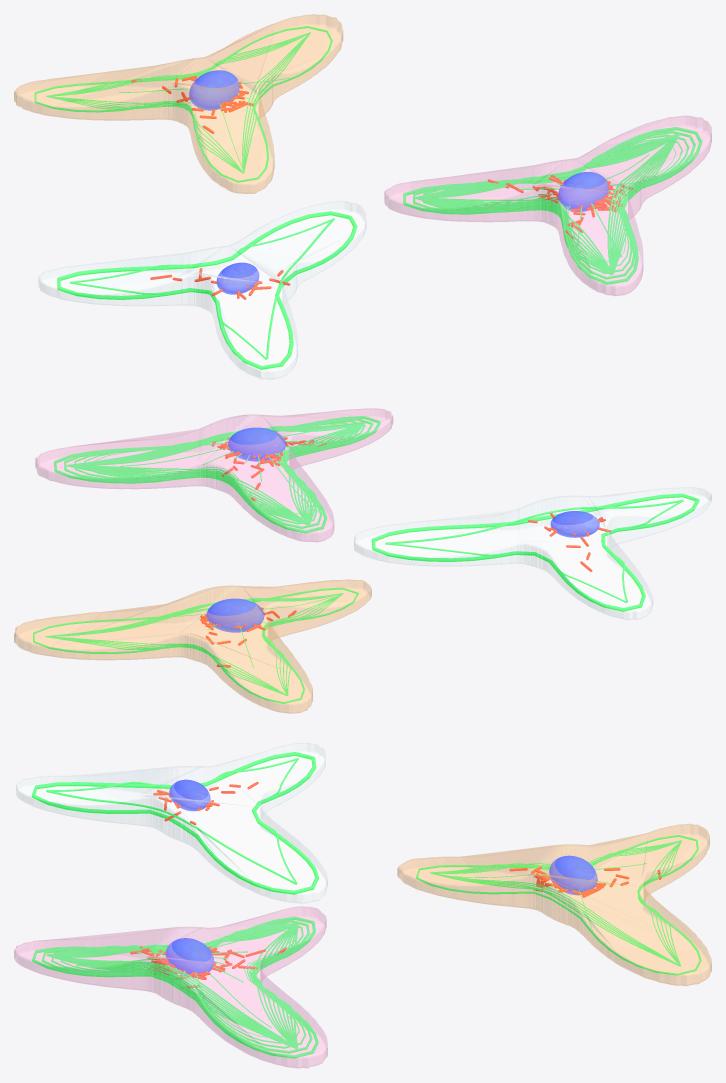
The model's file is dpsc-trio-tripolar.glb.
3 views of the same model, one above another, from view 1: azimuth 30°, elevation 25°; view 2: azimuth 150°, elevation 25°; view 3: azimuth 270°, elevation 25° (orthographic). The views are drawn at different scales.
Parts seen in each view (by area): view 1: lamella_membrane (×3), actin_bundles_merged (×3), nucleus (×3), mitochondrial_network_merged (×2); view 2: lamella_membrane (×3), actin_bundles_merged (×3), nucleus (×3), mitochondrial_network_merged (×2); view 3: lamella_membrane (×3), actin_bundles_merged (×3), nucleus (×3), mitochondrial_network_merged (×2).
Boxes of the visible parts, x1,y1,x2,y2 form: lamella_membrane (×3): (14, 14, 711, 379); actin_bundles_merged (×3): (34, 26, 702, 369); nucleus (×3): (189, 70, 608, 294); mitochondrial_network_merged (×2): (131, 76, 636, 238); lamella_membrane (×3): (14, 408, 711, 713); actin_bundles_merged (×3): (33, 416, 699, 703); nucleus (×3): (206, 427, 599, 632); mitochondrial_network_merged (×2): (200, 437, 326, 667); lamella_membrane (×3): (14, 742, 711, 1068); actin_bundles_merged (×3): (31, 752, 701, 1058); nucleus (×3): (165, 779, 597, 977); mitochondrial_network_merged (×2): (130, 866, 661, 988).
Bounding box in the file's own units: 0.28 × 0.017 × 0.261.
